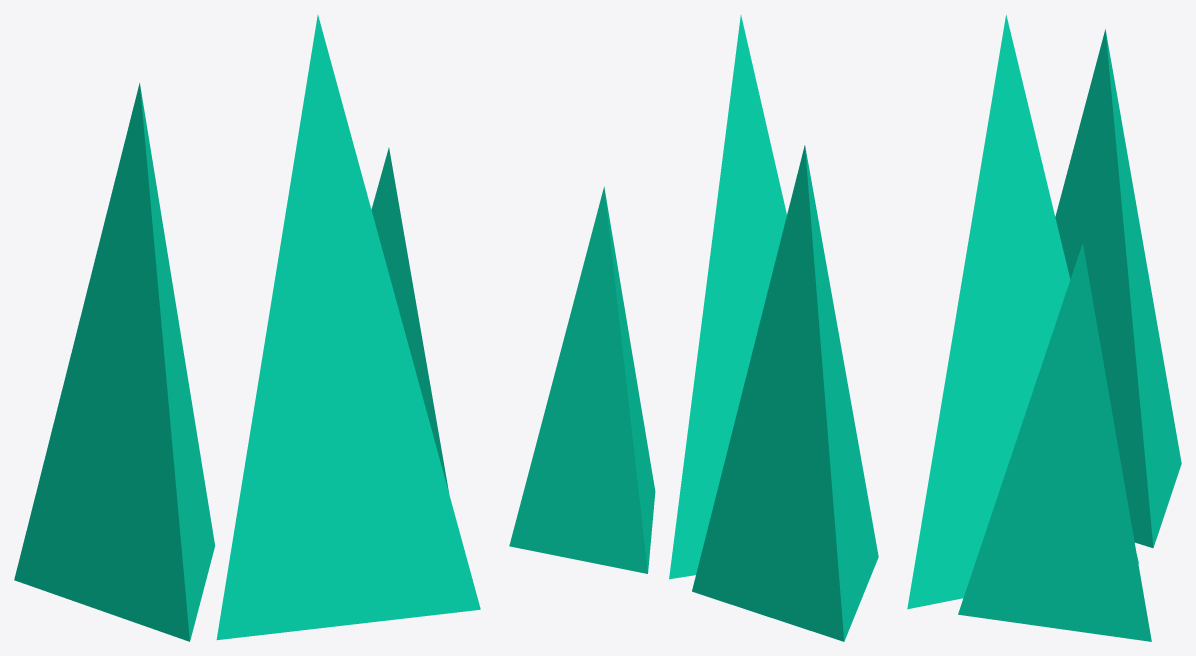
The model's file is Spike3.fbx.
The picture shows the model from 3 angles, left to right: view 1: azimuth 30°, elevation 25°; view 2: azimuth 150°, elevation 25°; view 3: azimuth 270°, elevation 25°; orthographic projection. The views are drawn at different scales.
Parts seen in each view (by area): view 1: Spike3; view 2: Spike3; view 3: Spike3.
Boxes of the visible parts, x1,y1,x2,y2 form: Spike3: (14,14,480,641); Spike3: (509,15,878,641); Spike3: (907,14,1181,641).
Bounding box in the file's own units: 0.9185 × 1.31 × 0.5972.
